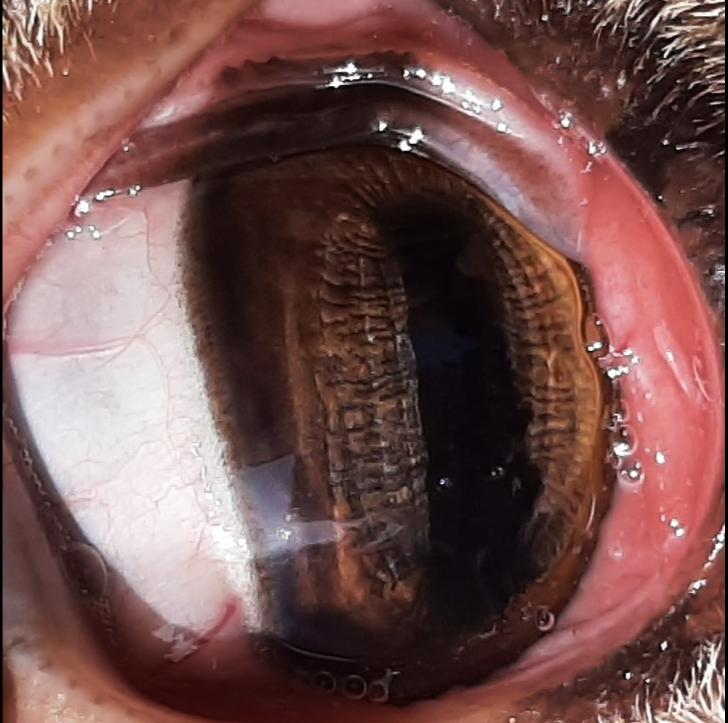eye_membrane: (2, 0, 723, 723)
